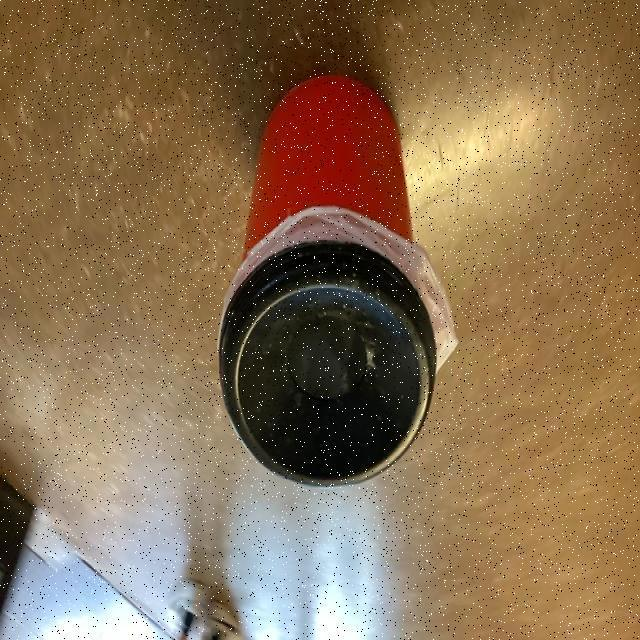garbage container: (147, 39, 511, 521)
